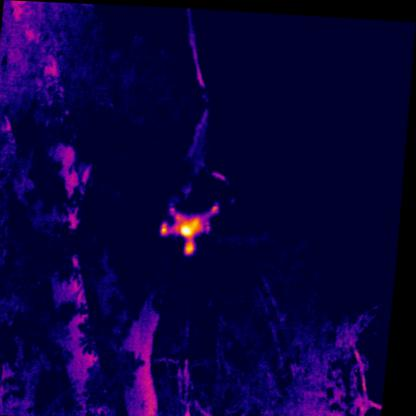drone: (160, 196, 223, 254)
